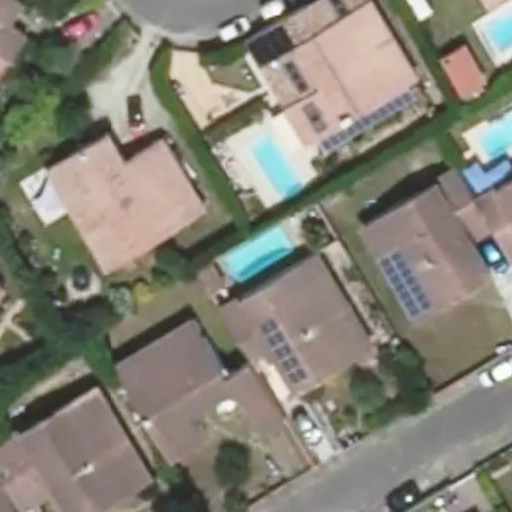pool: (219, 225, 293, 287), (247, 133, 304, 203), (476, 3, 512, 67), (473, 108, 512, 165)
